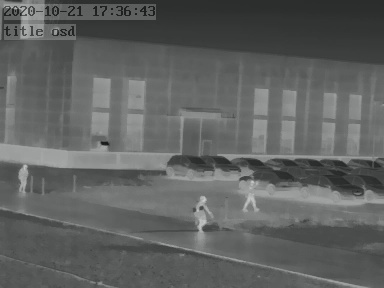person: (191, 195, 214, 236), (243, 180, 259, 214), (17, 162, 29, 194)
vehicle: (302, 171, 364, 201), (242, 169, 303, 191), (166, 152, 211, 178), (205, 153, 242, 177), (350, 174, 382, 200), (232, 154, 269, 172), (262, 155, 294, 170), (348, 156, 379, 170), (318, 156, 347, 169), (296, 156, 323, 169)
